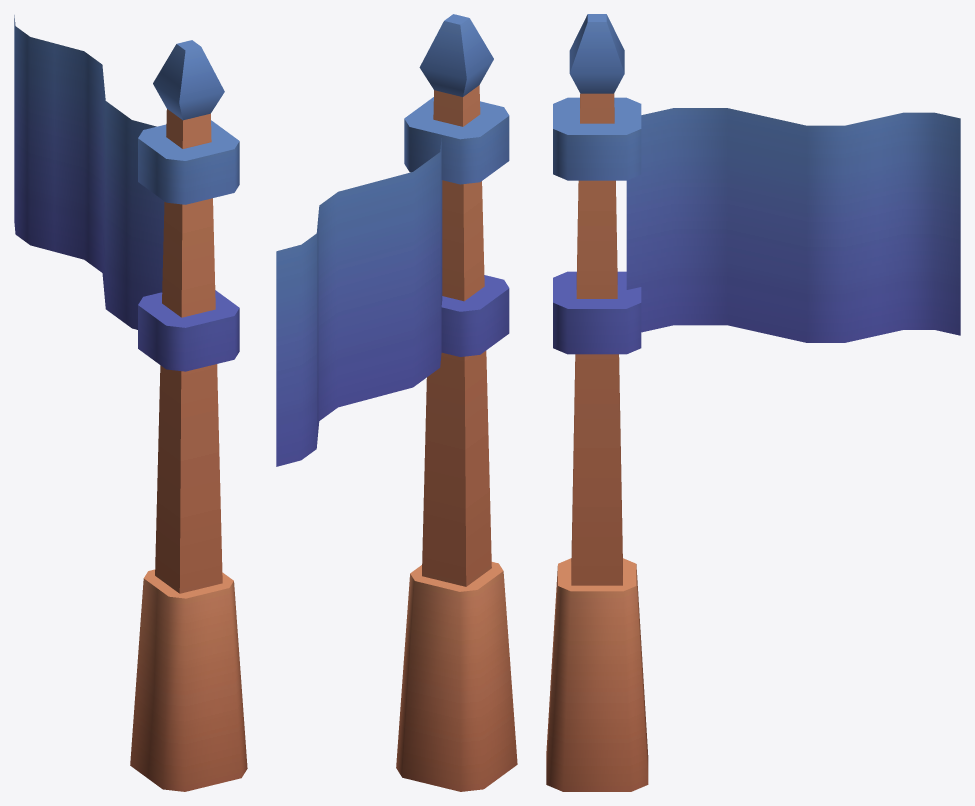
Rendered from k-castle-flag.glb.
3 renders of one model, left to right at view 1: azimuth 30°, elevation 25°; view 2: azimuth 150°, elevation 25°; view 3: azimuth 270°, elevation 25°, orthographic. The views are drawn at different scales.
Visible parts, largest first — view 1: flag; view 2: flag; view 3: flag.
Boxes of the visible parts, x1,y1,x2,y2 form: flag: (14,15,247,791); flag: (276,14,517,791); flag: (546,14,960,791).
Size of the model in its own units: 0.1064 by 0.8656 by 0.4323.
1 material, 1 textured.
